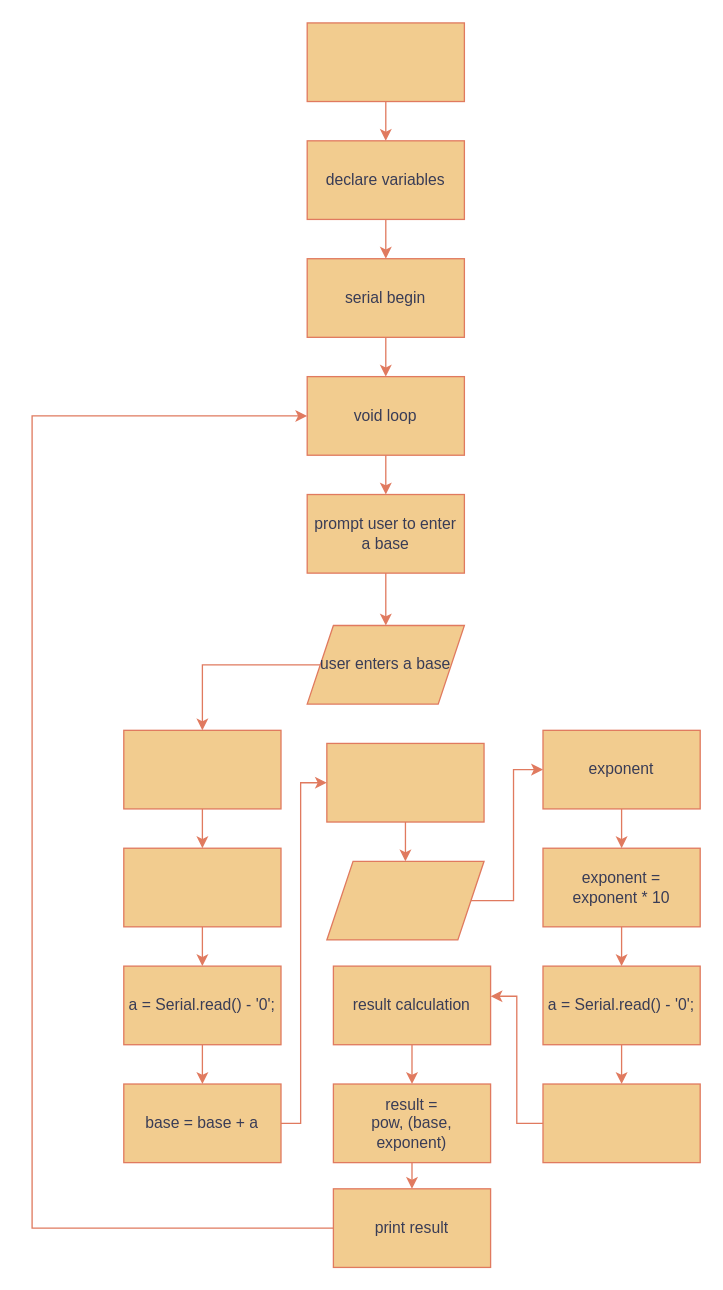
This 723x1290 diagram has some shape labels left out. Each missing label, with the centre of its shape:
"base" belongs at point 201,769.
"base = base * 10" belongs at point 201,887.
"exponent = exponent + a" belongs at point 621,1123.
"prompt user to enter an exponent" belongs at point 405,782.
"start" belongs at point 385,62.
"user enters a exponent" belongs at point 405,900.
